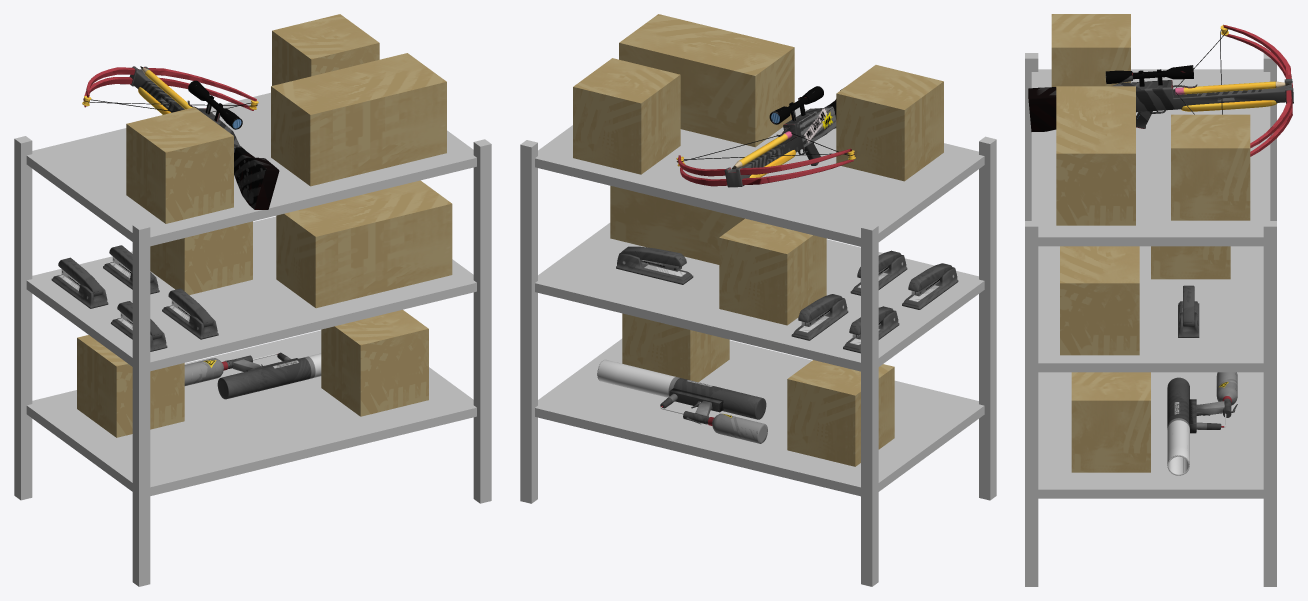
Rendered from Ammo_large.fbx.
The picture shows the model from 3 angles, left to right: view 1: azimuth 30°, elevation 25°; view 2: azimuth 150°, elevation 25°; view 3: azimuth 270°, elevation 25°; orthographic projection.
Visible parts, largest first — view 1: Legs, Cube.003, Cube.002, Cube.007, Cube.005, Crossbow, Cube.004, Cube.008, Cube.006, Cylinder, Stappler_bottom.003, Stappler_bottom.002 (+2 smaller); view 2: Legs, Cube.003, Cube.006, Cube.007, Cube.008, Cube.004, Crossbow, Cube.002, Cylinder, Cube.005, Stappler_bottom, Stapler_top (+4 smaller); view 3: Legs, Cube.003, Cube.002, Cube.006, Crossbow, Cube.005, Cube.007, Cylinder, Cube.008, Stappler_bottom, Stapler_top.
Boxes of the visible parts, x1,y1,x2,y2 form: Legs: (14, 92, 491, 586); Cube.003: (271, 53, 446, 186); Cube.002: (276, 180, 452, 308); Cube.007: (126, 107, 233, 223); Cube.005: (321, 309, 428, 416); Crossbow: (82, 66, 279, 209); Cube.004: (77, 335, 184, 437); Cube.008: (150, 221, 252, 295); Cube.006: (272, 14, 379, 85); Cylinder: (184, 352, 321, 399); Stappler_bottom.003: (51, 274, 108, 308); Stappler_bottom.002: (162, 305, 218, 339); Legs: (520, 107, 996, 586); Cube.003: (619, 14, 794, 147); Cube.006: (573, 58, 680, 174); Cube.007: (836, 65, 943, 181); Cube.008: (719, 218, 826, 325); Cube.004: (787, 360, 894, 466); Crossbow: (676, 86, 855, 187); Cube.002: (610, 186, 744, 264); Cylinder: (597, 359, 767, 443); Cube.005: (622, 313, 729, 382); Stappler_bottom: (616, 253, 693, 284); Stapler_top: (620, 246, 686, 271); Legs: (1025, 53, 1276, 586); Cube.003: (1056, 86, 1135, 225); Cube.002: (1060, 246, 1139, 355); Cube.006: (1171, 114, 1250, 220); Crossbow: (1028, 24, 1293, 156); Cube.005: (1071, 372, 1150, 472); Cube.007: (1051, 14, 1130, 86); Cylinder: (1167, 372, 1237, 475); Cube.008: (1151, 246, 1230, 279); Stappler_bottom: (1178, 301, 1199, 337); Stapler_top: (1183, 285, 1194, 326).
Size of the model in its own units: 207 by 233 by 135.
